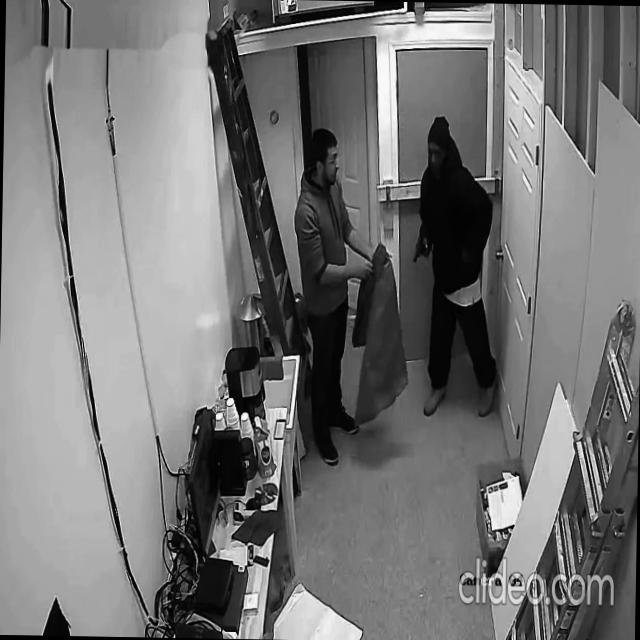gun: (412, 234, 426, 262)
person: (289, 126, 393, 467)
person with a gun: (411, 114, 502, 416)
